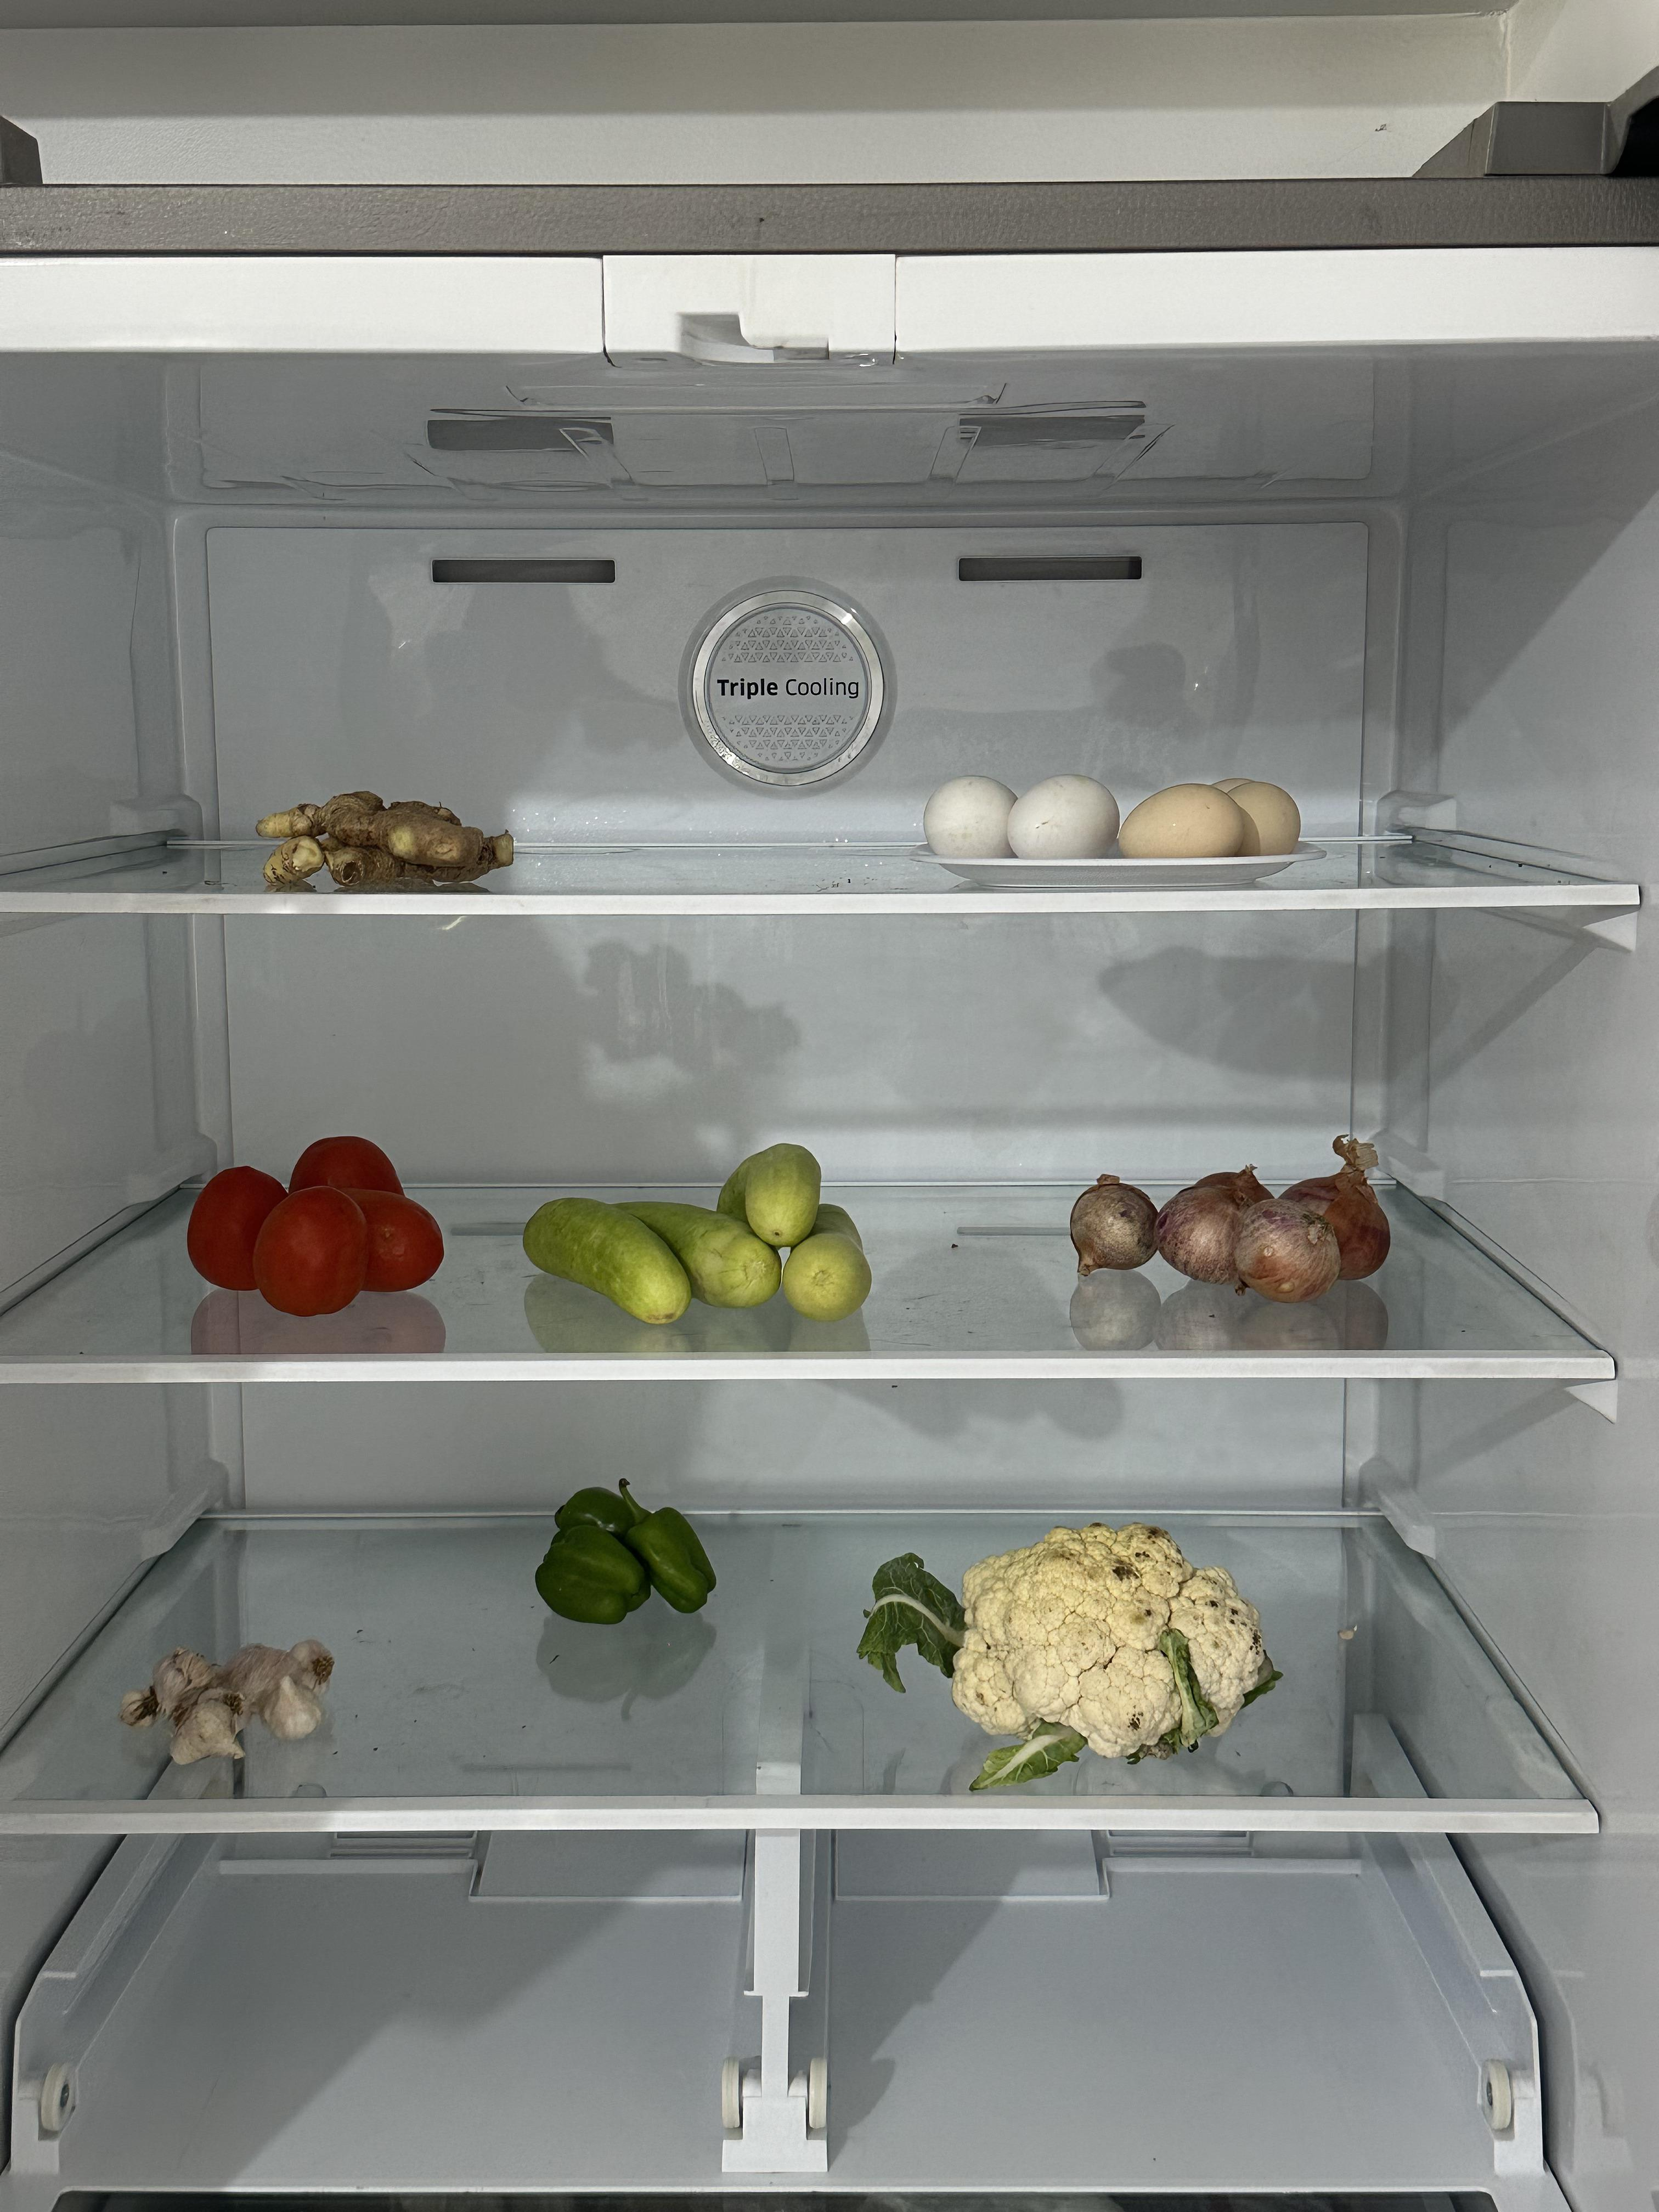capsicum: (532, 1470, 711, 1629)
cauliflower: (934, 1522, 1258, 1745)
cucumber: (512, 1132, 873, 1331)
egg: (924, 761, 1297, 880)
garlic: (138, 1634, 336, 1766)
ginger: (247, 787, 512, 897)
onion: (1061, 1153, 1401, 1306)
tomato: (193, 1116, 444, 1312)
